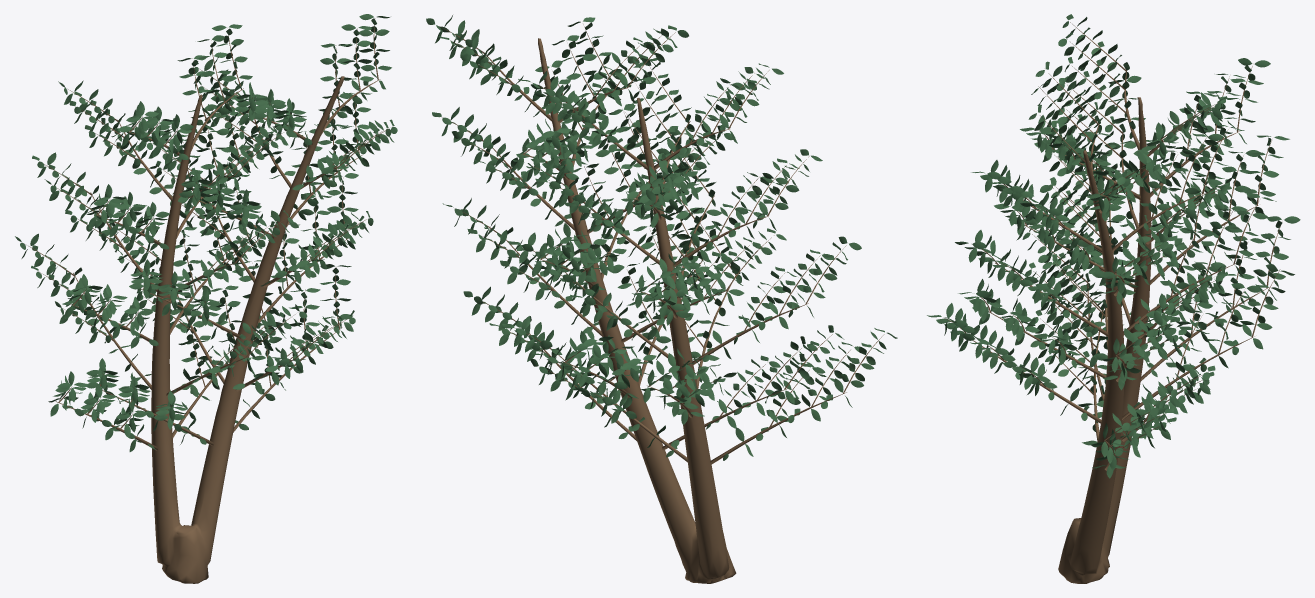
Rendered from Myrte_2_Niveau0.fbx.
3 renders of one model, left to right at view 1: azimuth 30°, elevation 25°; view 2: azimuth 150°, elevation 25°; view 3: azimuth 270°, elevation 25°, orthographic. The views are drawn at different scales.
Parts seen in each view (by area): view 1: Myrte_2_Niveau0_Jeu; view 2: Myrte_2_Niveau0_Jeu; view 3: Myrte_2_Niveau0_Jeu.
Part boxes in pixels (x1,y1,x2,y2): Myrte_2_Niveau0_Jeu: (15, 14, 397, 583); Myrte_2_Niveau0_Jeu: (426, 15, 897, 583); Myrte_2_Niveau0_Jeu: (927, 14, 1300, 583).
Size of the model in its own units: 126 by 153 by 96.62.
